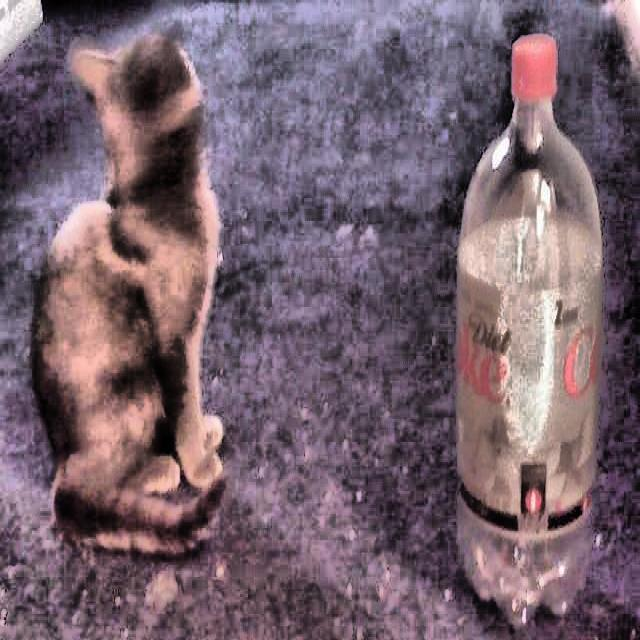Bottles: (451, 23, 603, 633)
